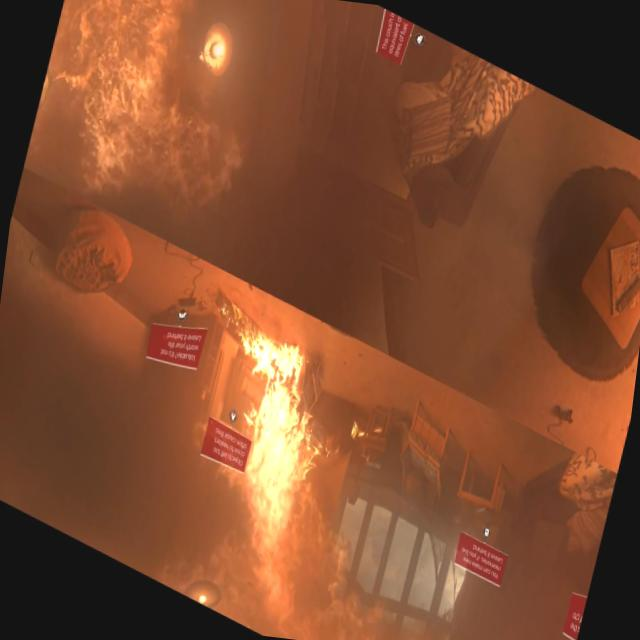fire: (184, 317, 363, 640)
